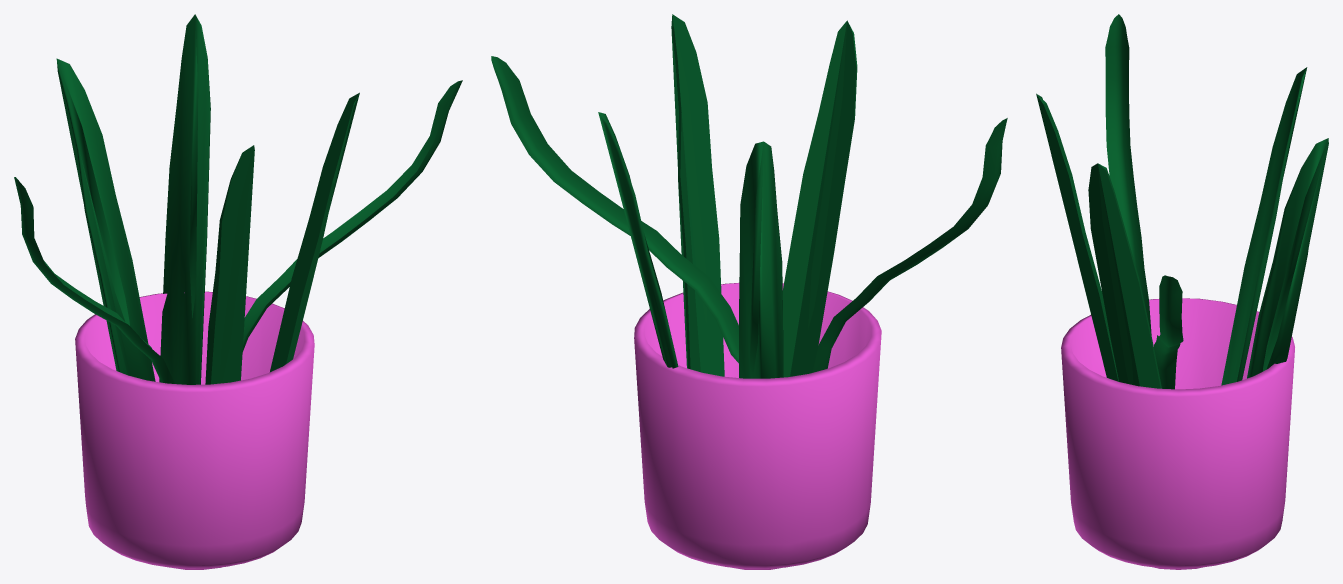
File: SM_Aloe_low.fbx
3 views of the same model, side by side, from view 1: azimuth 30°, elevation 25°; view 2: azimuth 150°, elevation 25°; view 3: azimuth 270°, elevation 25° (orthographic). The views are drawn at different scales.
Visible parts, largest first — view 1: Flower_Pot.low, Leave_straight.003, Leave_straight, Leave_straight.001, Leave_straight.002, Leave_curved, Leave_curved.001; view 2: Flower_Pot.low, Leave_straight.001, Leave_straight.002, Leave_straight, Leave_curved, Leave_curved.001, Leave_straight.003; view 3: Flower_Pot.low, Leave_straight.002, Leave_straight.003, Leave_straight, Leave_curved.001, Leave_straight.001, Leave_curved.
Part boxes in pixels (x1,y1,x2,y2): Flower_Pot.low: (75,291,314,569); Leave_straight.003: (159,14,210,384); Leave_straight: (56,58,155,381); Leave_straight.001: (205,145,254,384); Leave_straight.002: (270,92,359,372); Leave_curved: (242,80,462,351); Leave_curved.001: (14,177,174,383); Flower_Pot.low: (634,283,881,569); Leave_straight.001: (782,20,857,377); Leave_straight.002: (671,14,724,376); Leave_straight: (739,141,783,378); Leave_curved: (491,56,738,363); Leave_curved.001: (812,118,1007,372); Leave_straight.003: (598,112,678,368); Flower_Pot.low: (1061,298,1294,569); Leave_straight.002: (1088,163,1161,388); Leave_straight.003: (1247,138,1328,378); Leave_straight: (1221,67,1307,385); Leave_curved.001: (1105,14,1151,334); Leave_straight.001: (1036,93,1118,381); Leave_curved: (1154,275,1183,389).
Bounding box in the file's own units: 265 × 243 × 145.
